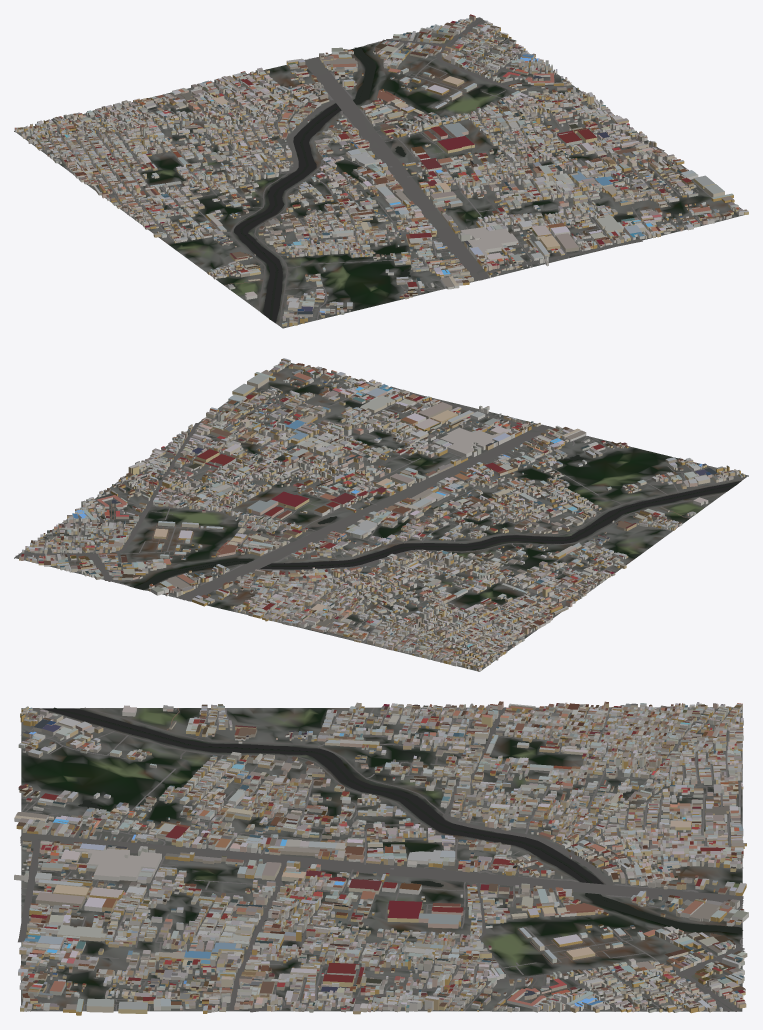
The picture shows the model from 3 angles, top to bottom: view 1: azimuth 30°, elevation 25°; view 2: azimuth 150°, elevation 25°; view 3: azimuth 270°, elevation 25°; orthographic projection. The views are drawn at different scales.
Visible parts, largest first — view 1: buildings, ground, roads, water; view 2: buildings, ground, roads, water; view 3: buildings, ground, roads, water.
Part boxes in pixels (bbox=[...]): buildings: bbox=[14, 14, 748, 326]; ground: bbox=[14, 17, 743, 328]; roads: bbox=[17, 18, 740, 327]; water: bbox=[234, 46, 410, 322]; buildings: bbox=[19, 358, 744, 671]; ground: bbox=[14, 363, 748, 671]; roads: bbox=[15, 363, 745, 669]; water: bbox=[133, 455, 740, 589]; buildings: bbox=[14, 701, 748, 1015]; ground: bbox=[21, 707, 742, 1011]; roads: bbox=[18, 707, 744, 1012]; water: bbox=[42, 707, 742, 934].
Bounding box in the file's own units: 1427 × 30.21 × 1427.
